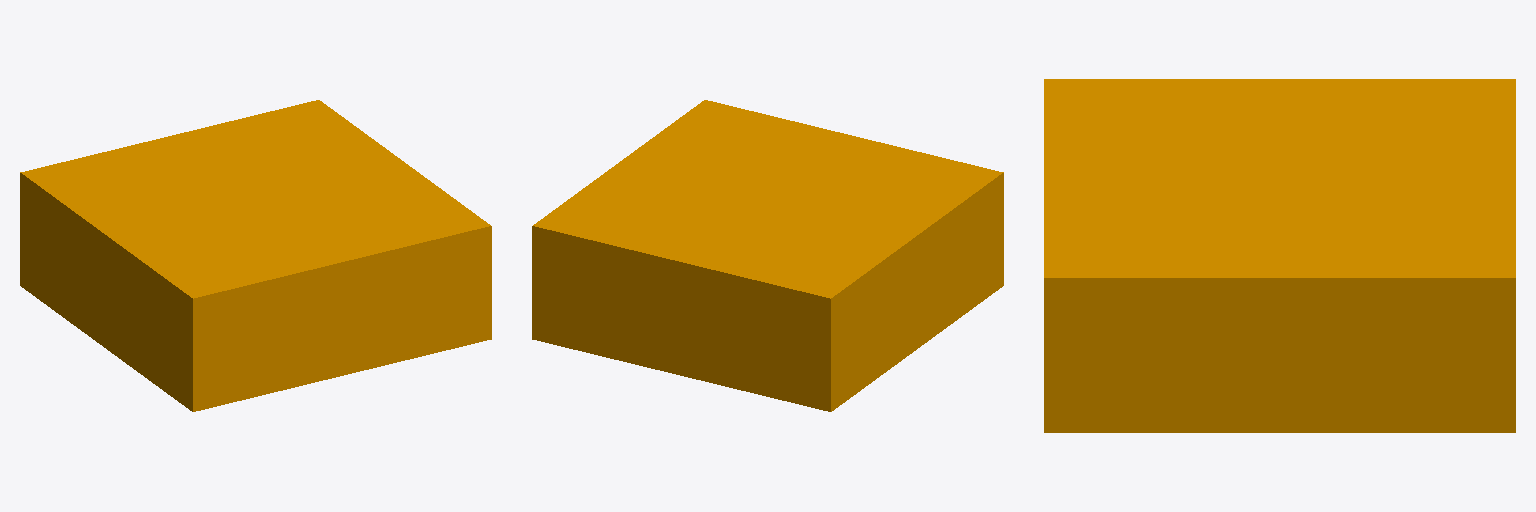
URDF robot description (testing2_cuboid_medium):
<?xml version="1.0" ?>
<robot name="testing2_cuboid_medium">

    <link name="testing2_cuboid_medium">
        <visual>
            <origin rpy="1.5707963267948966 0 0" xyz="0 0 0"/>
            <geometry>
                <mesh filename="obj_files/testing2_cuboid_medium.obj" scale="1 1 1"/>
            </geometry>
        </visual>
        <collision>
            <geometry>
                <mesh filename="obj_files/testing2_cuboid_medium_collision.obj" scale="1 1 1"/>
            </geometry>
        </collision>
    </link>

</robot>

--- Facts derived from the render (not from the file) ---
The picture shows the robot from 3 angles, left to right: view 1: azimuth 30°, elevation 25°; view 2: azimuth 150°, elevation 25°; view 3: azimuth 270°, elevation 25°; orthographic projection.
Model testing2_cuboid_medium with 1 links and 0 joints (none), rooted at testing2_cuboid_medium, posed all joints at 0.
Links seen in each view (by area): view 1: testing2_cuboid_medium; view 2: testing2_cuboid_medium; view 3: testing2_cuboid_medium.
Link boxes in pixels (<box>): testing2_cuboid_medium: <box>20,100,491,411</box>; testing2_cuboid_medium: <box>532,100,1003,411</box>; testing2_cuboid_medium: <box>1044,79,1515,432</box>.
Size in the robot's own frame: 0.165 by 0.165 by 0.06 metres.
Meshes: 1 distinct files referenced, 1 mesh visuals loaded (1 OBJ).